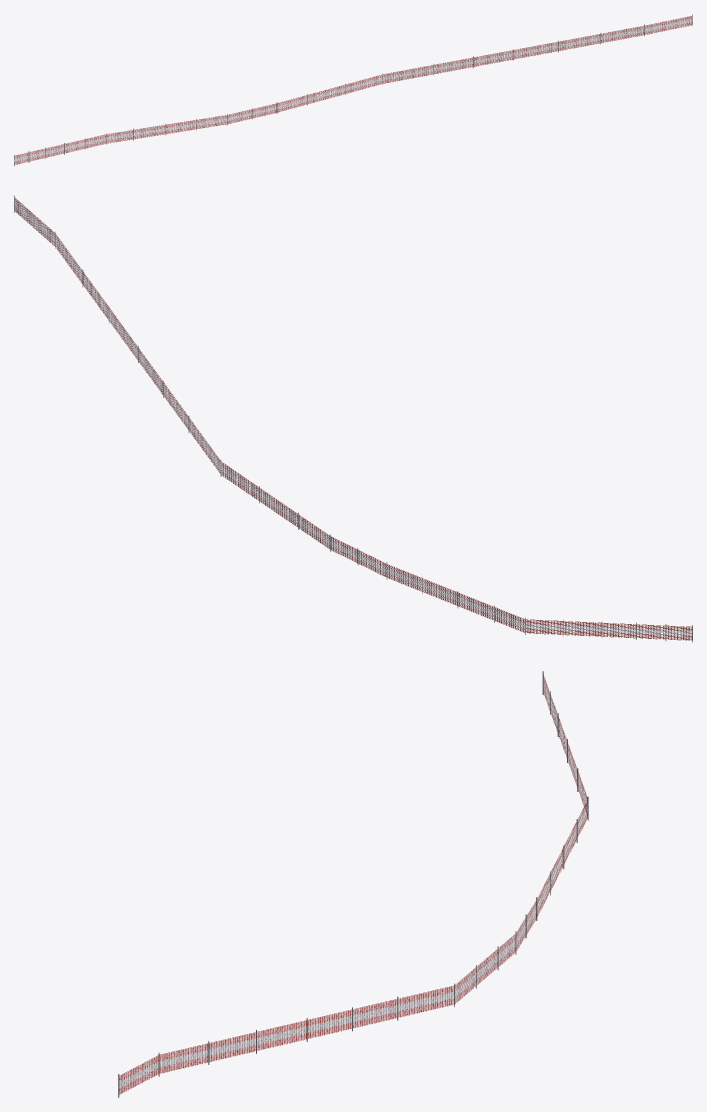
File: mtb2_barrier5.obj
The picture shows the model from 3 angles, top to bottom: view 1: azimuth 30°, elevation 25°; view 2: azimuth 150°, elevation 25°; view 3: azimuth 270°, elevation 25°; orthographic projection. The views are drawn at different scales.
Parts seen in each view (by area): view 1: mtb2_barrier5; view 2: mtb2_barrier5; view 3: mtb2_barrier5.
Part boxes in pixels (x1,y1,x2,y2): mtb2_barrier5: (14, 14, 692, 166); mtb2_barrier5: (14, 195, 692, 642); mtb2_barrier5: (118, 671, 588, 1097).
Bounding box in the file's own units: 56.27 × 9.56 × 19.99.
Materials: 3 (3 with a texture image).
